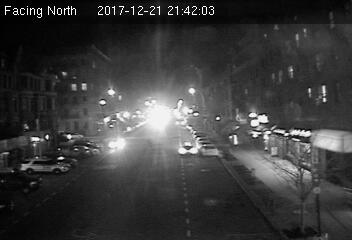car: (173, 142, 198, 156), (201, 144, 218, 157)
